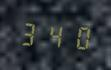four: (43, 19, 66, 50)
three: (18, 17, 41, 49)
zero: (67, 20, 90, 52)
